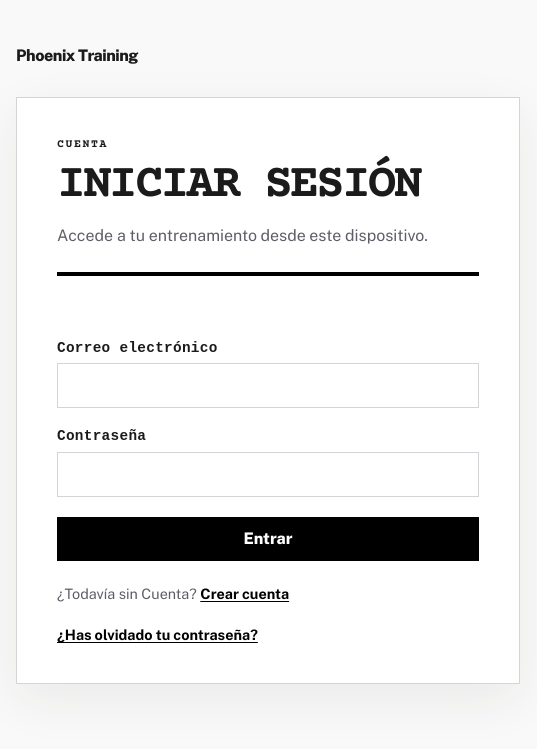
it: pantalla de entrada › ofrece verificar el correo cuando la Cuenta sigue pendiente
Step 1. Type "deportista@example.com" into the field labelled "Correo electrónico" → {"x": 268, "y": 386}, box [57, 364, 479, 408]
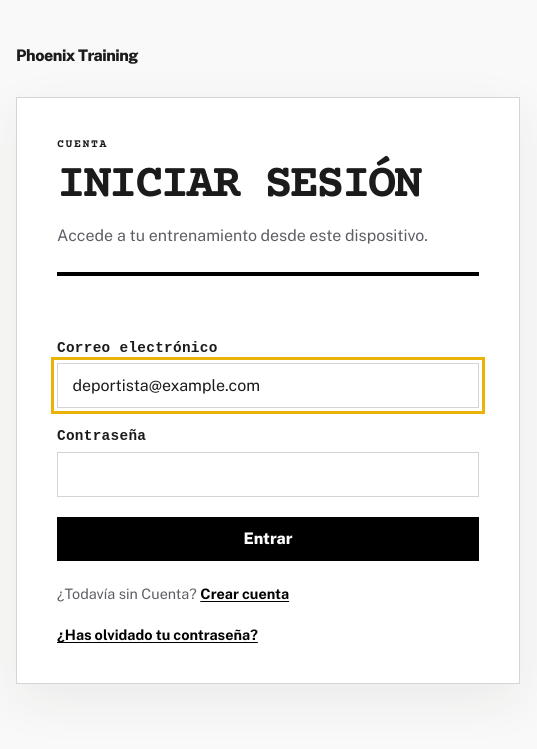
Step 2. Type "contraseña-segura" into the password field labelled "Contraseña" → {"x": 268, "y": 474}, box [57, 452, 479, 497]
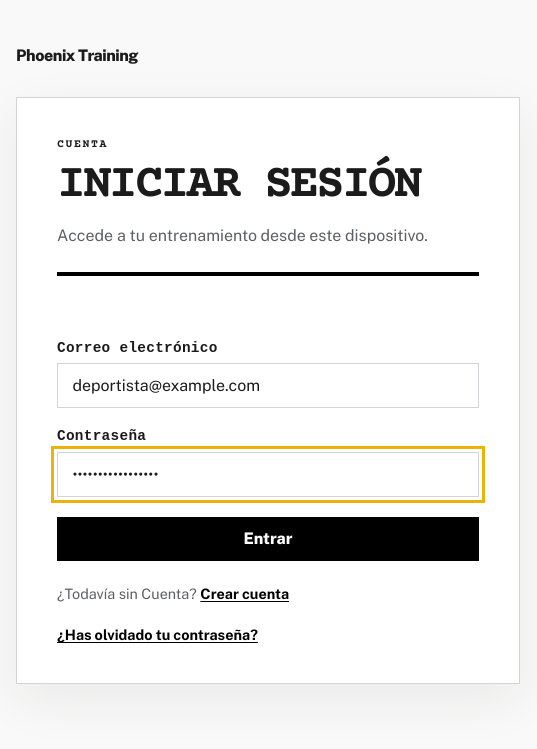
Step 3. Click the button "Entrar" → {"x": 268, "y": 539}, box [57, 517, 479, 561]
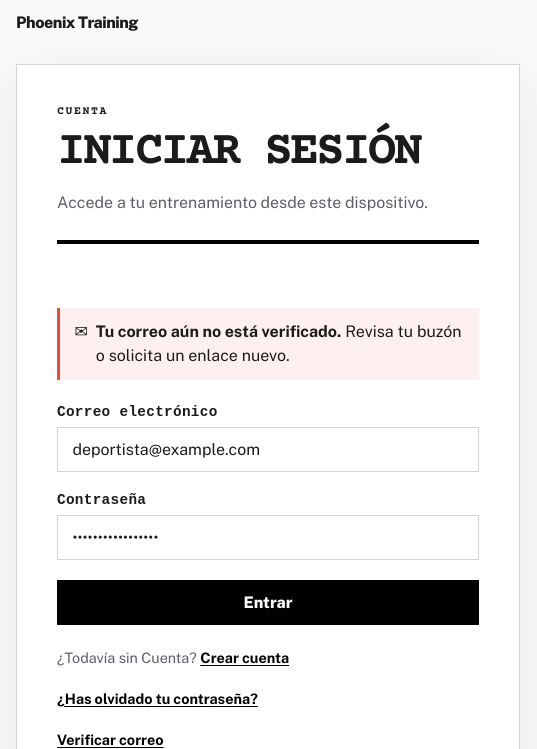
Result: the message shows "aún no está verificado" at [96, 322, 341, 341]
